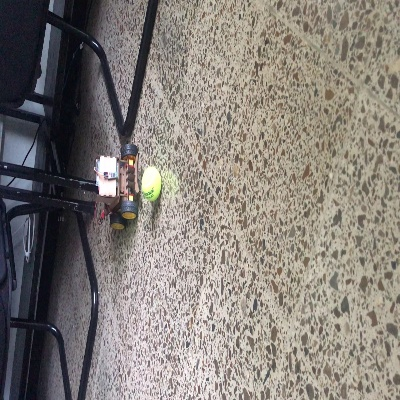Ball: (139, 167, 161, 201)
Robot: (94, 142, 137, 229)
